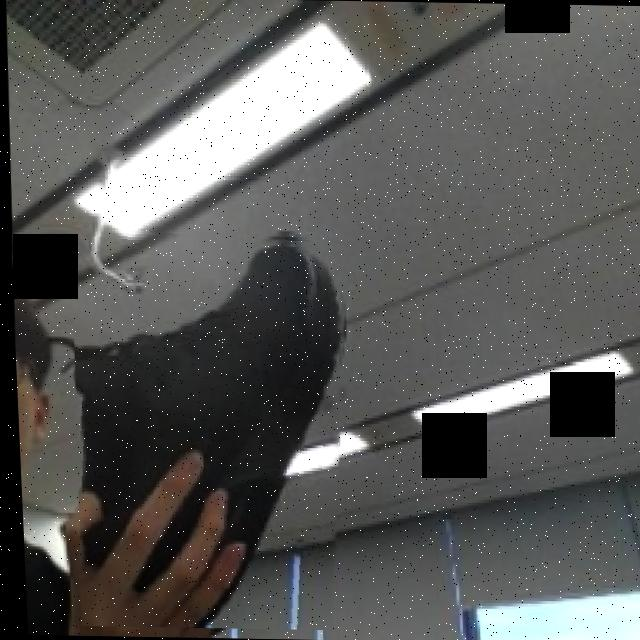shoe: (61, 227, 359, 630)
